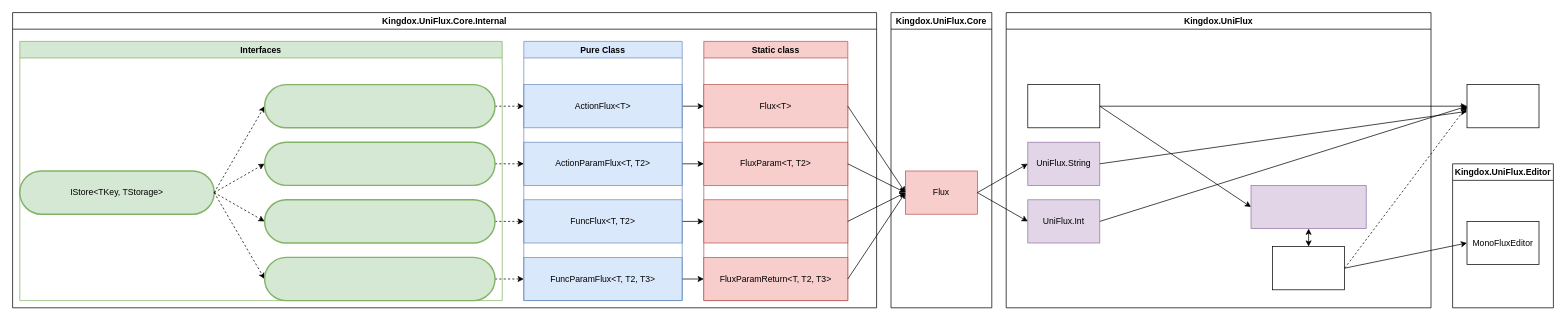
Some shapes in this 1566 by 320 pixel diagram are drawn without their labels. The centre of each missing label's shape, as x and y in pixels:
FluxAttribute: the point at 1063,106
FluxAttributeExtension: the point at 1308,207
FluxReturn<T, T2>: the point at 775,221
IFlux<TKey , TStorage >: the point at 379,106
IFluxParam<TKey, TParam, TStorage>: the point at 379,163
IFluxParamReturn<TKey, TParam, TReturn, TStorage>: the point at 379,278
IFluxReturn<TKey, TReturn, TStorage>: the point at 379,221
MonoFlux: the point at 1308,268
YourClass: the point at 1502,106
